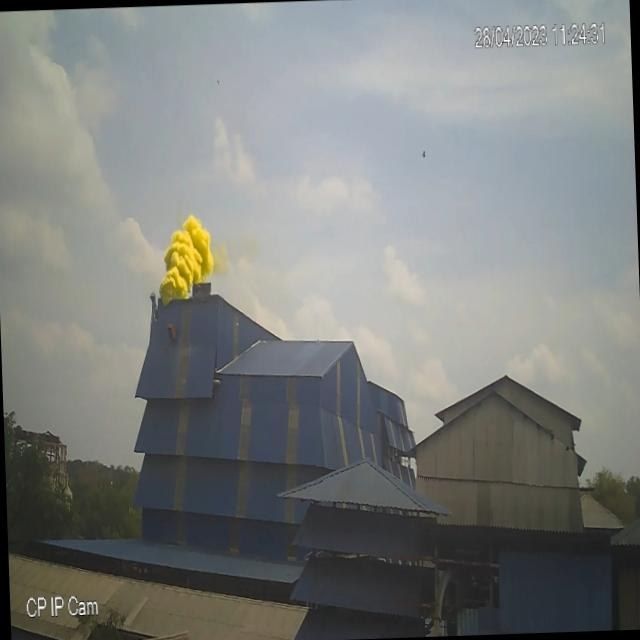yellow smoke: (154, 210, 214, 304)
